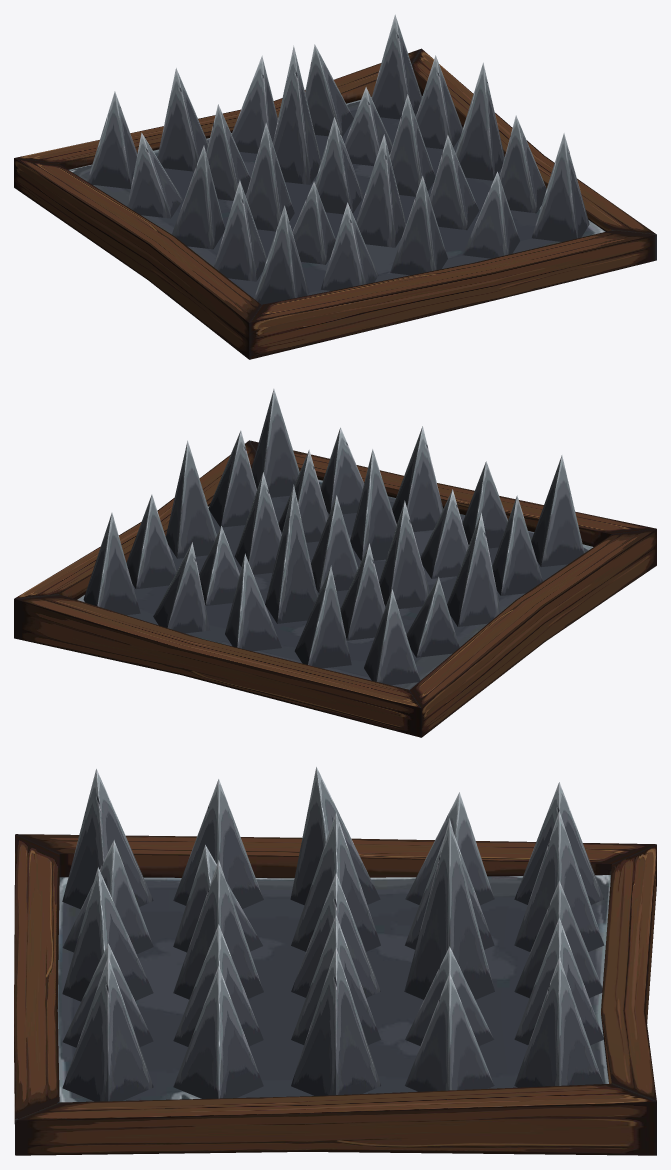
File: trap.gltf
3 views of the same model, one above another, from view 1: azimuth 30°, elevation 25°; view 2: azimuth 150°, elevation 25°; view 3: azimuth 270°, elevation 25° (orthographic). The views are drawn at different scales.
Visible parts, largest first — view 1: P_PROP_trap_floor_dungeon_01; view 2: P_PROP_trap_floor_dungeon_01; view 3: P_PROP_trap_floor_dungeon_01.
Boxes of the visible parts, left/top/right/bottom form: P_PROP_trap_floor_dungeon_01: left=14, top=14, right=656, bottom=359; P_PROP_trap_floor_dungeon_01: left=14, top=389, right=656, bottom=737; P_PROP_trap_floor_dungeon_01: left=14, top=766, right=656, bottom=1155.
Bounding box in the file's own units: 2 × 0.6966 × 2.01.
1 material, 1 textured.
